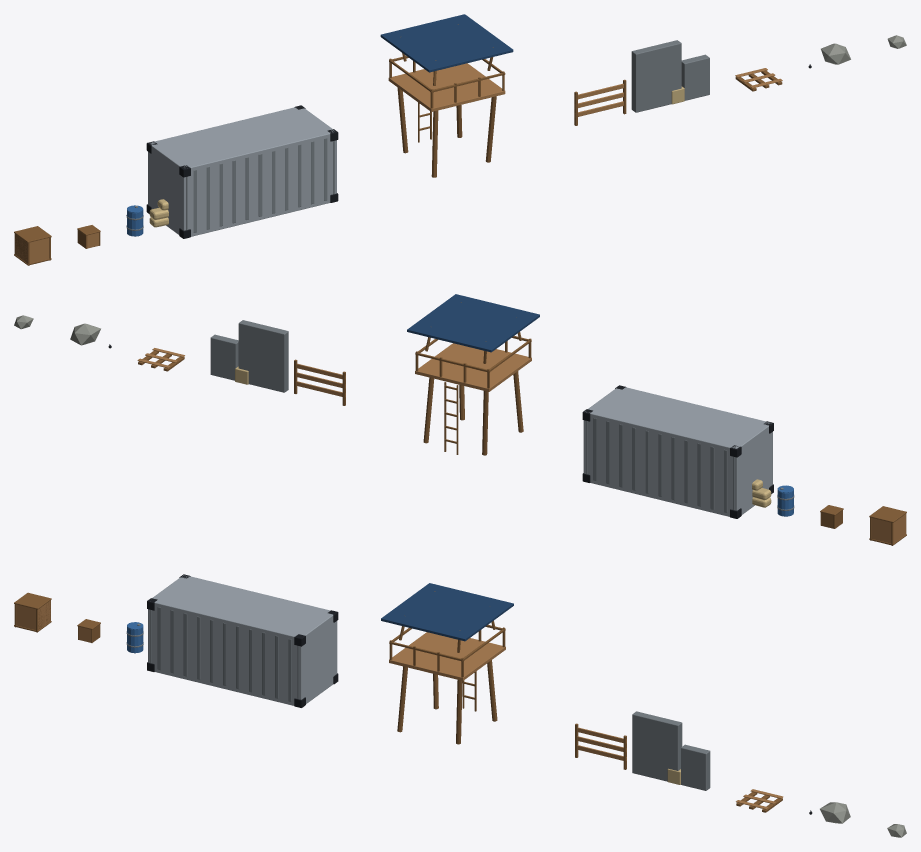
The model's file is props.glb.
3 renders of one model, top to bottom at view 1: azimuth 30°, elevation 25°; view 2: azimuth 150°, elevation 25°; view 3: azimuth 330°, elevation 25°, orthographic.
Visible parts, largest first — view 1: Container, Tower, WallRuin, CrateBig, Fence, Pallet, Barrel; view 2: Container, Tower, WallRuin, CrateBig, Fence, Pallet, Barrel; view 3: Container, Tower, WallRuin, CrateBig, Fence, Pallet.
Part boxes in pixels (x1,y1,x2,y2): Container: (146,105,338,238); Tower: (380,14,513,177); WallRuin: (631,40,709,112); CrateBig: (14,226,51,265); Fence: (574,79,626,125); Pallet: (735,68,782,91); Barrel: (126,205,143,236); Container: (582,385,773,518); Tower: (407,294,539,455); WallRuin: (210,320,288,392); CrateBig: (869,506,906,545); Fence: (294,359,345,405); Pallet: (137,348,184,371); Barrel: (777,485,794,516); Container: (147,574,338,707); Tower: (381,583,513,744); WallRuin: (632,711,710,790); CrateBig: (14,592,51,632); Fence: (575,723,626,769); Pallet: (736,789,783,812).
Bounding box in the file's own units: 34.54 × 4.39 × 3.3.
